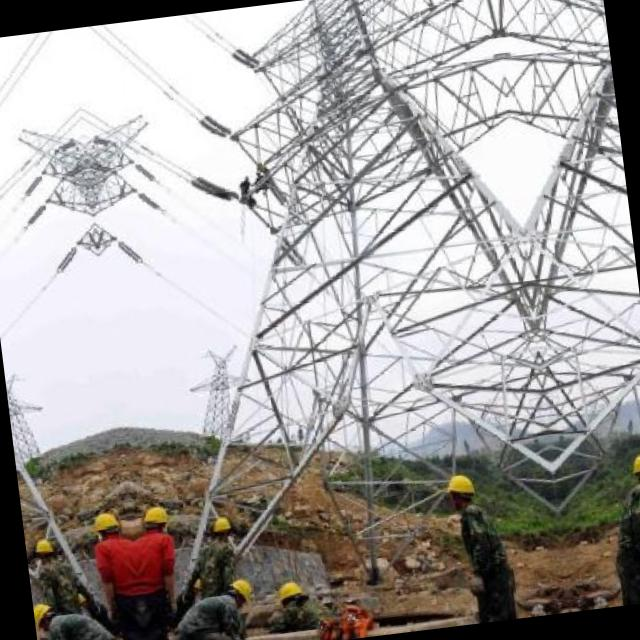helmet: (440, 467, 478, 514), (270, 576, 308, 614), (218, 576, 253, 612), (139, 501, 169, 539), (90, 507, 120, 545), (32, 600, 62, 636), (205, 514, 236, 544), (28, 536, 58, 566), (625, 444, 640, 492)
